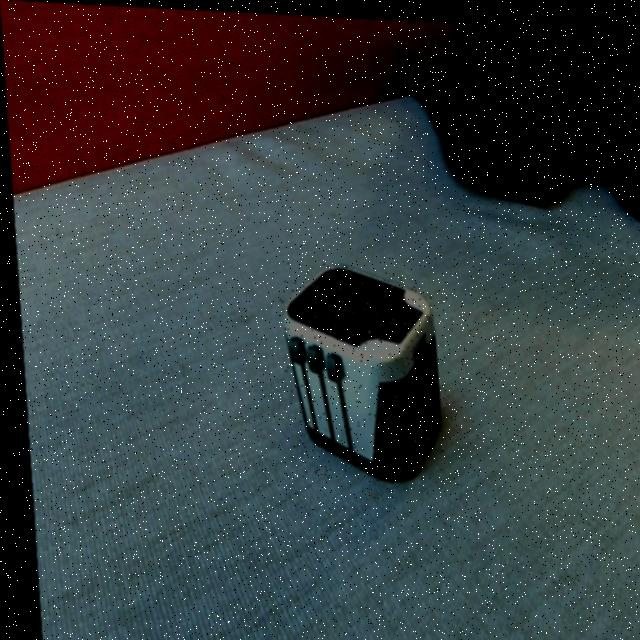adapter: (274, 258, 439, 480)
